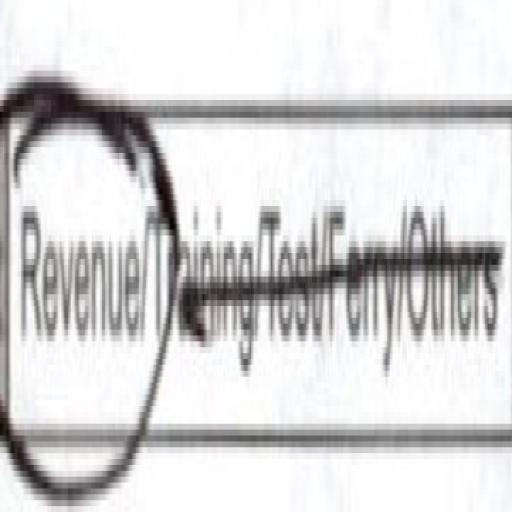check: (1, 19, 146, 511)
